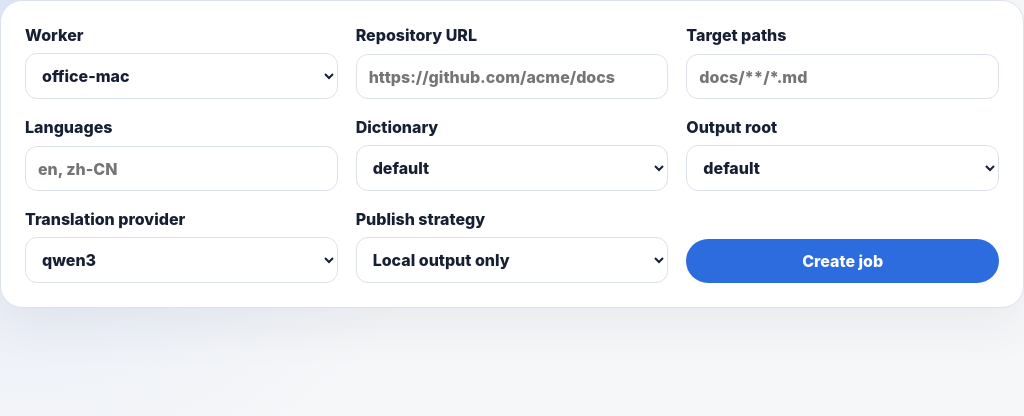
JobForm › requires typed confirmation for direct push
Select "Direct push" in the dropdown labelled "Publish strategy" at point(512, 260), box [356,237,668,283]
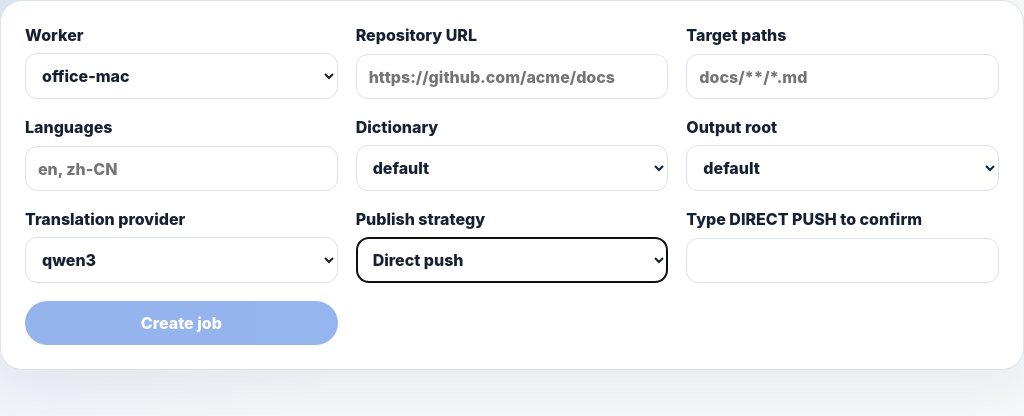
Check: the button "Create job" is disabled, box [25,301,338,345]
Type "DIRECT PUSH" into the field labelled "Type DIRECT PUSH to confirm" at point(843, 260), box [686,238,999,283]
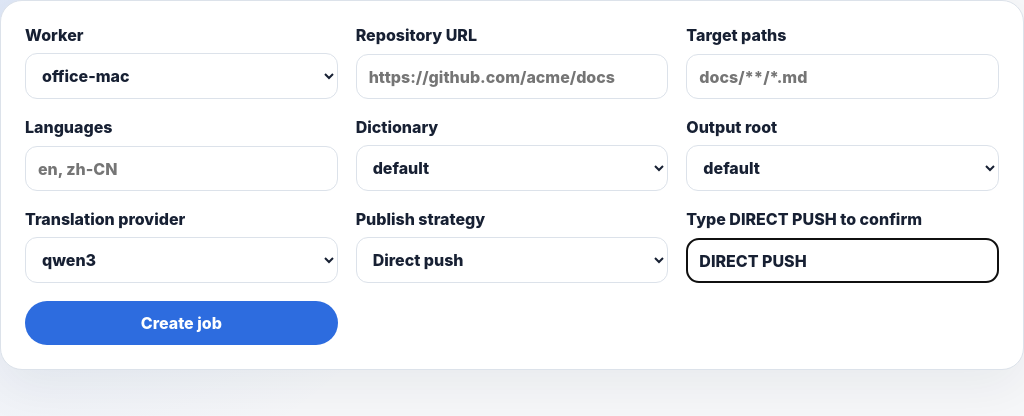
Check: the button "Create job" is enabled, box [25,301,338,345]
